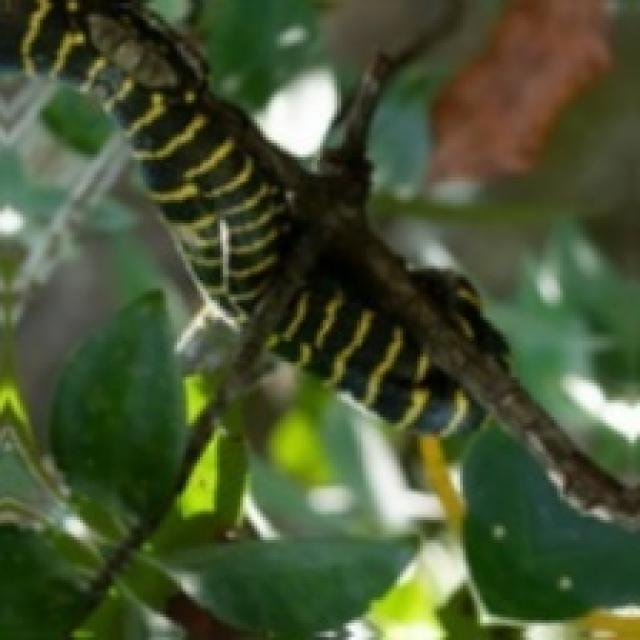mangrove cat snake: (20, 0, 317, 317), (266, 214, 506, 431)
